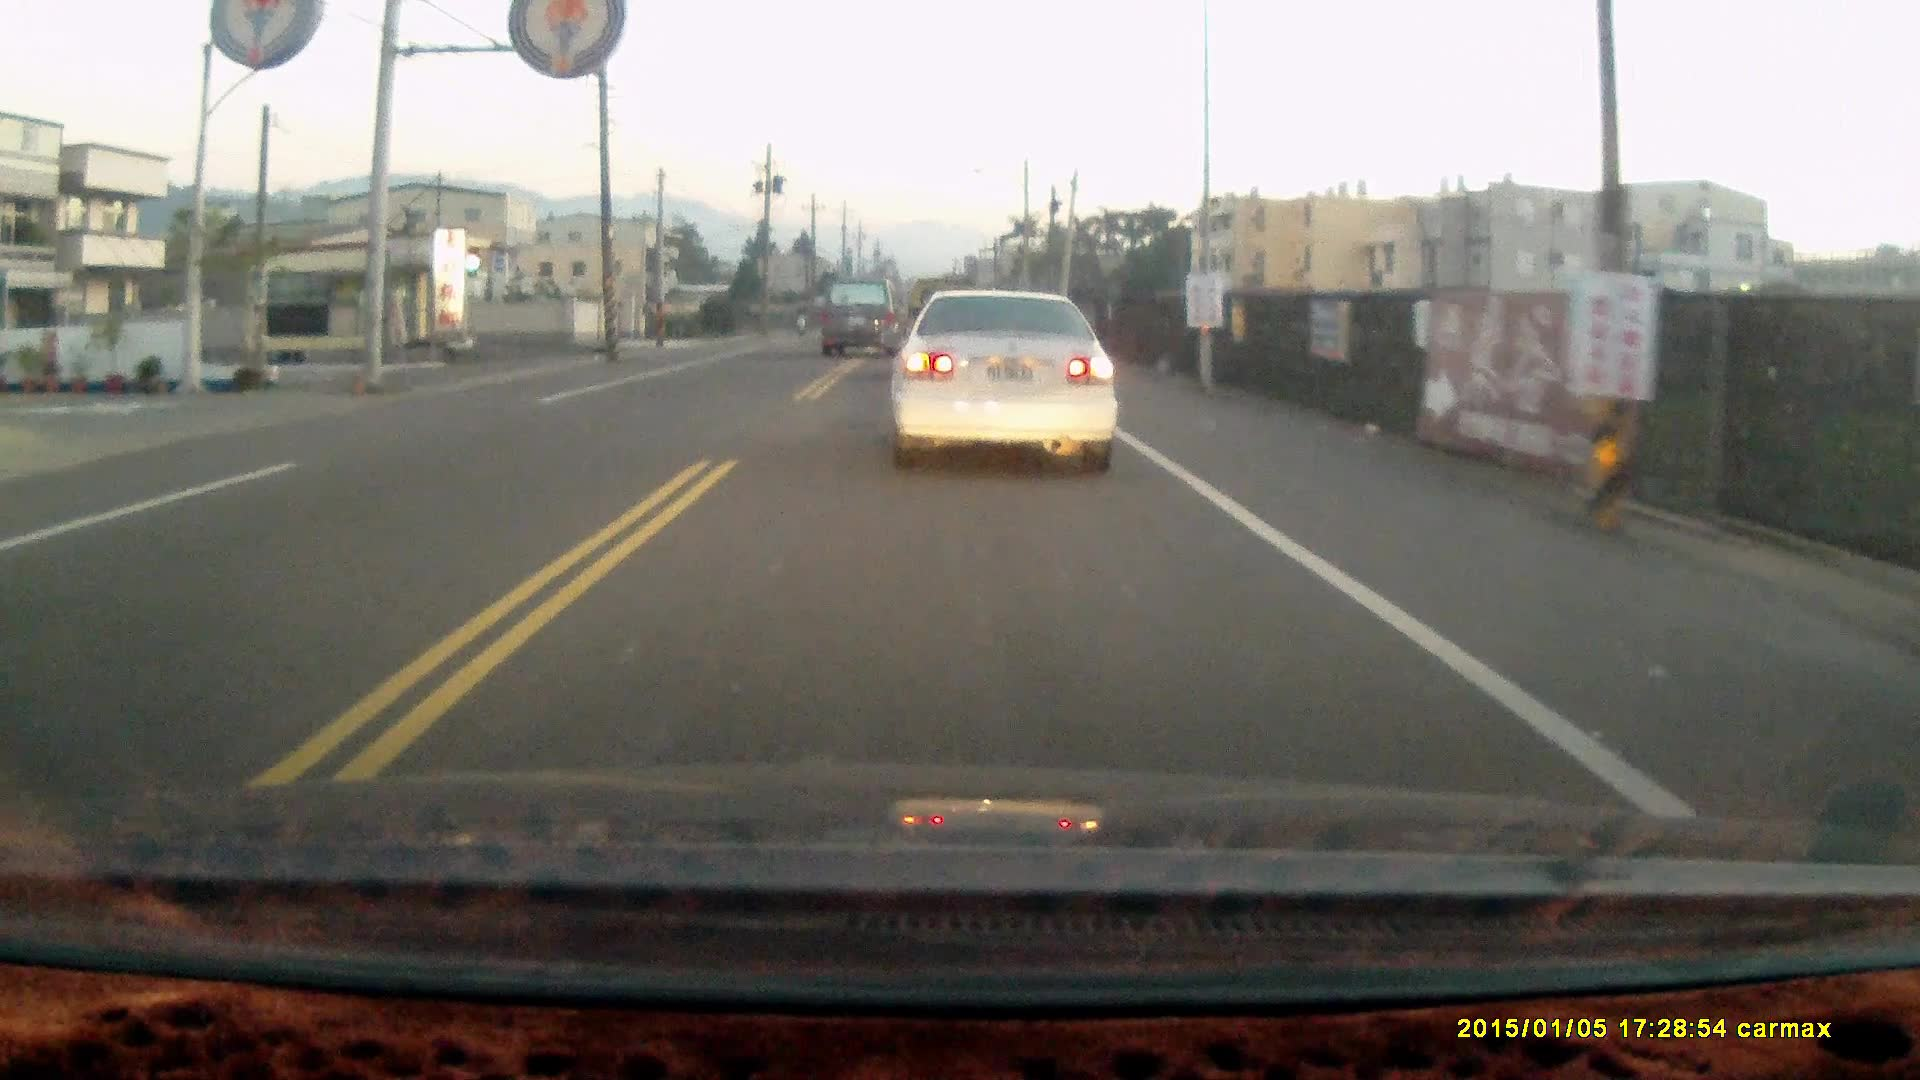vehicle: (887, 291, 1129, 483), (820, 276, 905, 364)
